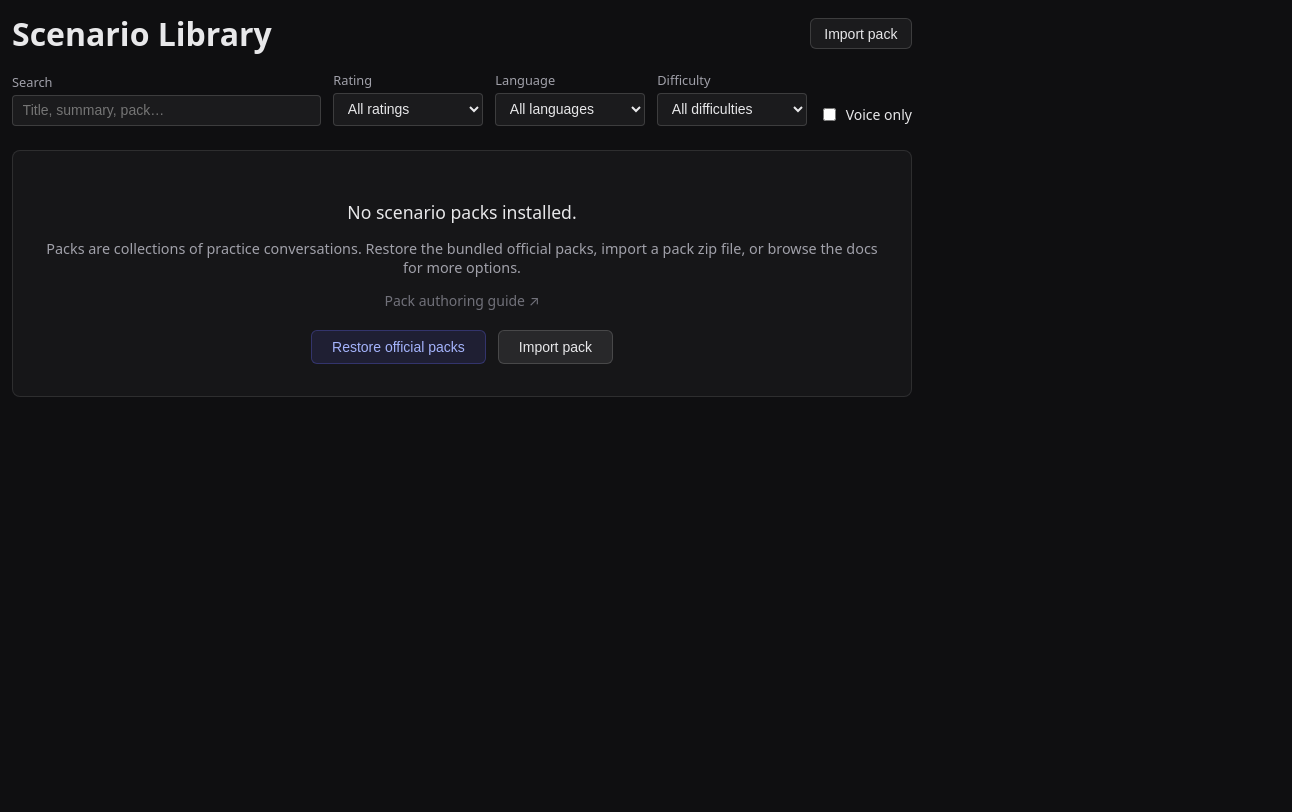
Test: empty state › restoring official packs reseeds and refreshes the scenario list
Expected: the message with test id "empty-state" is shown, [12,150,912,397]
Step 1. Click the button with test id "restore-official-packs-button" → (398, 347), box [311,330,486,364]
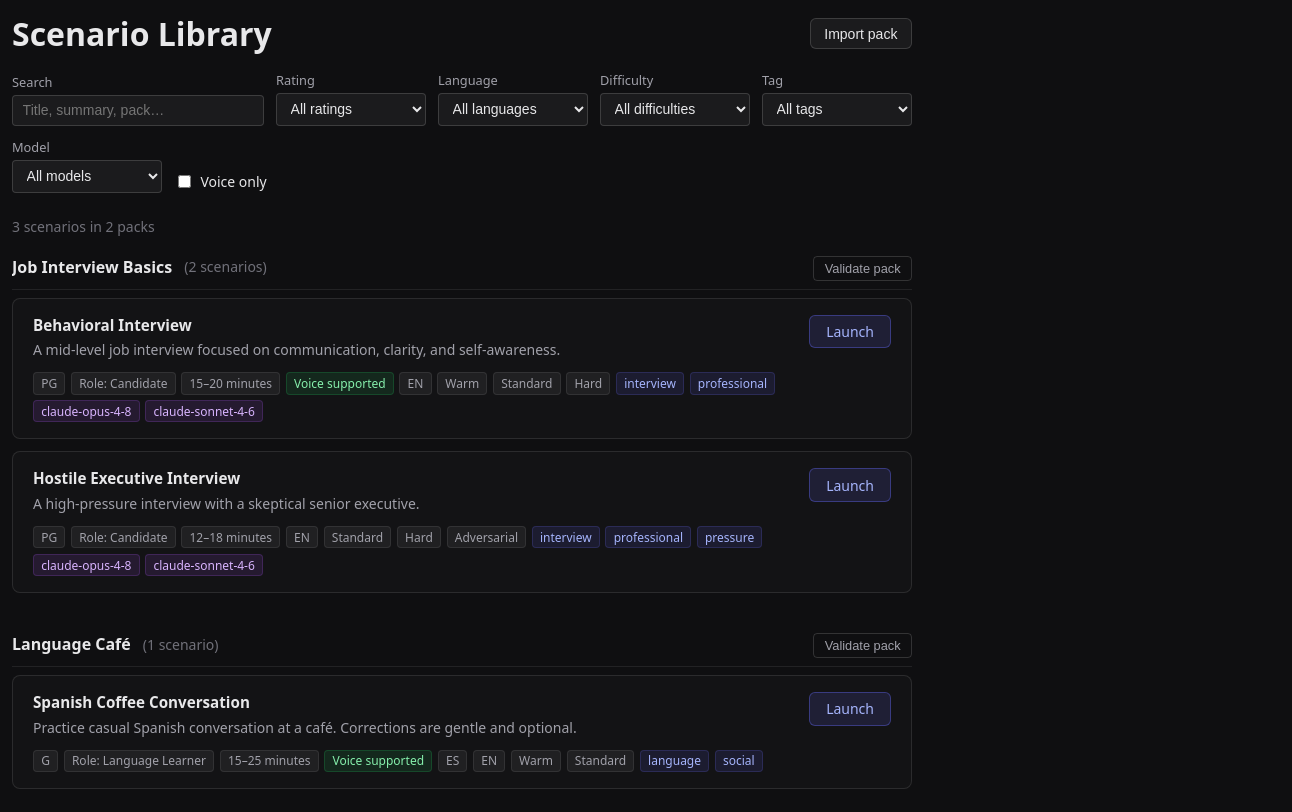
Expected: the message with test id "empty-state" is gone
